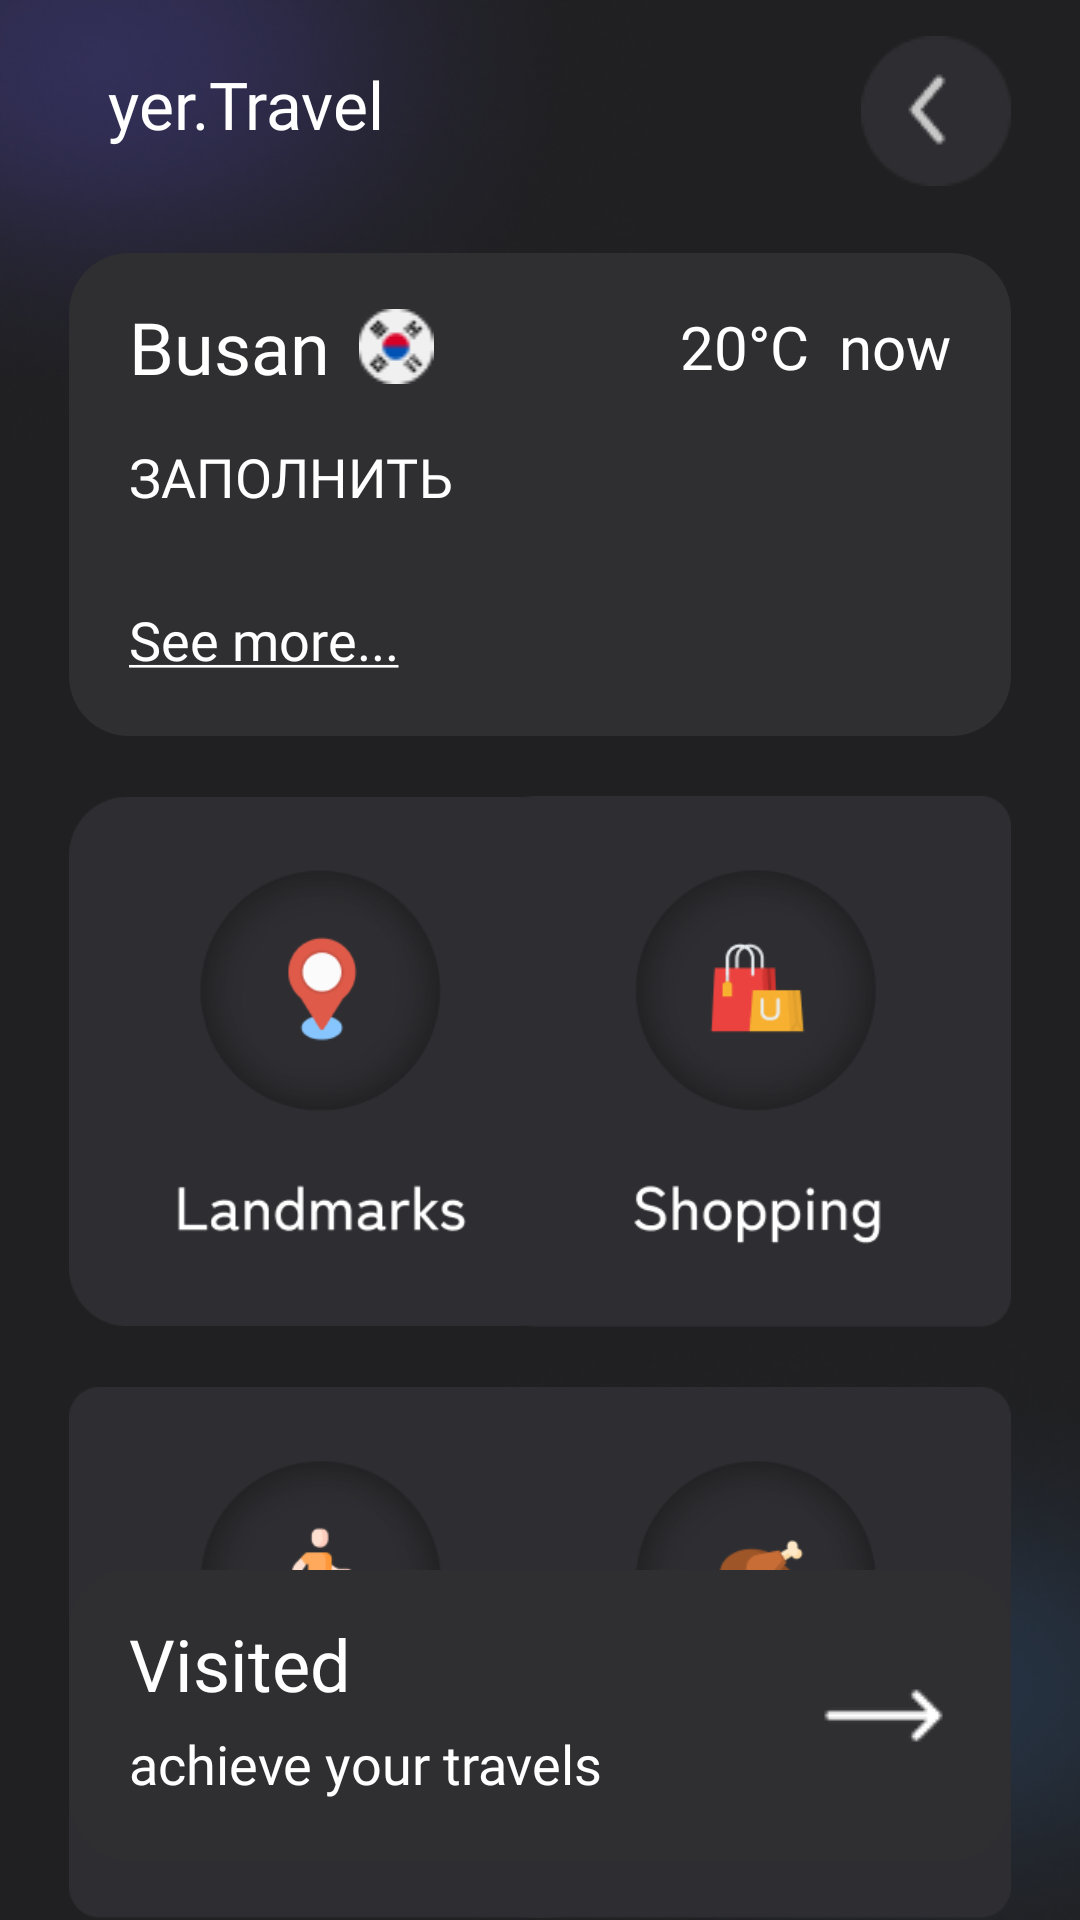

Icon click points for this 1080 × 1920 phone screenshot, format (x,y):
Go back: (936,111)
korea: (396,346)
